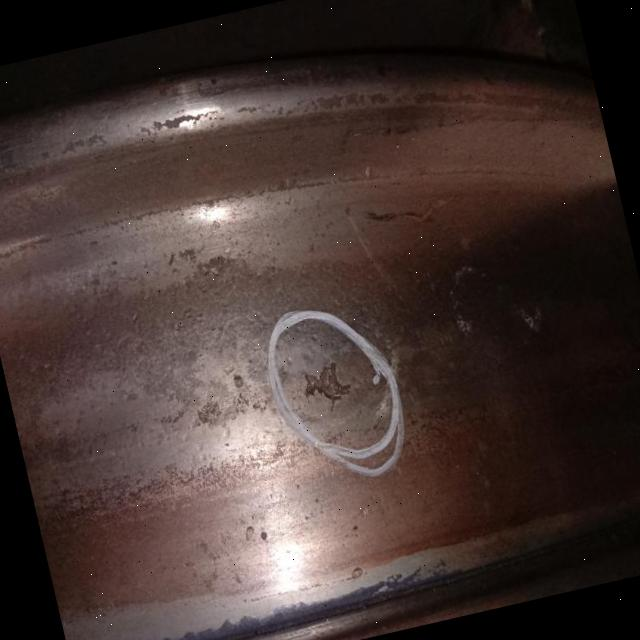Blue hole: (300, 358, 358, 418)
